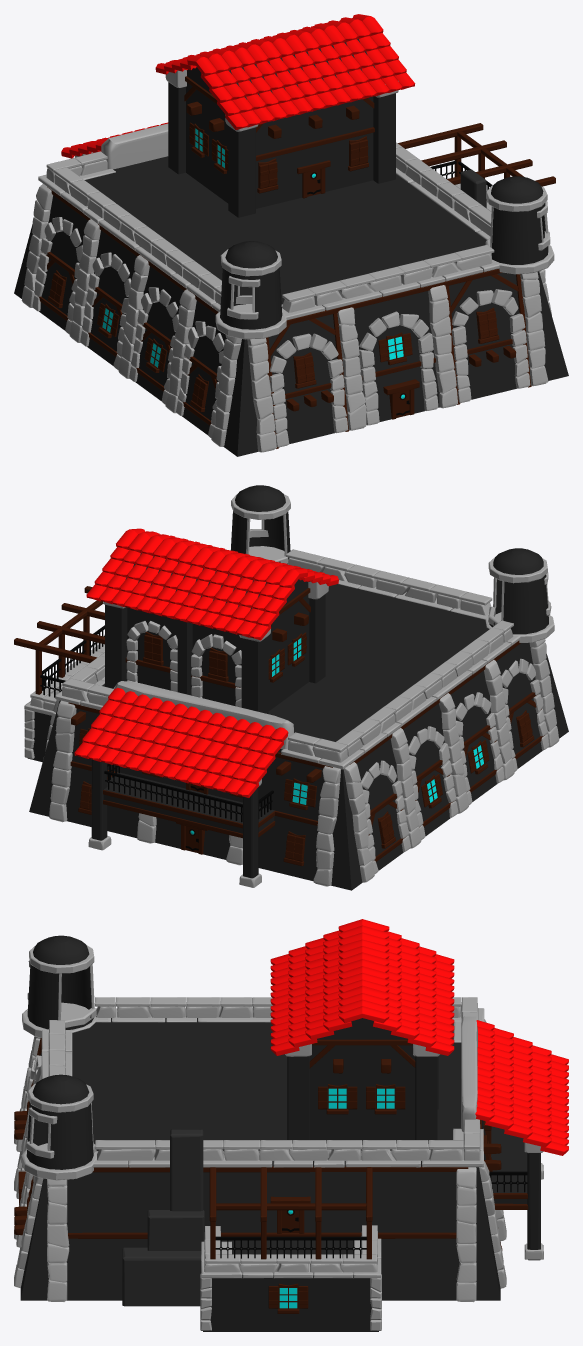
Rendered from StoneBuilding.fbx.
3 renders of one model, top to bottom at view 1: azimuth 30°, elevation 25°; view 2: azimuth 150°, elevation 25°; view 3: azimuth 270°, elevation 25°, orthographic. The views are drawn at different scales.
Parts seen in each view (by area): view 1: CompleteStoneBuilding; view 2: CompleteStoneBuilding; view 3: CompleteStoneBuilding.
Boxes of the visible parts, bbox=[...] form: CompleteStoneBuilding: bbox=[14, 14, 568, 456]; CompleteStoneBuilding: bbox=[14, 485, 568, 890]; CompleteStoneBuilding: bbox=[14, 919, 568, 1331].
Bounding box in the file's own units: 18.59 × 11.06 × 20.24.
